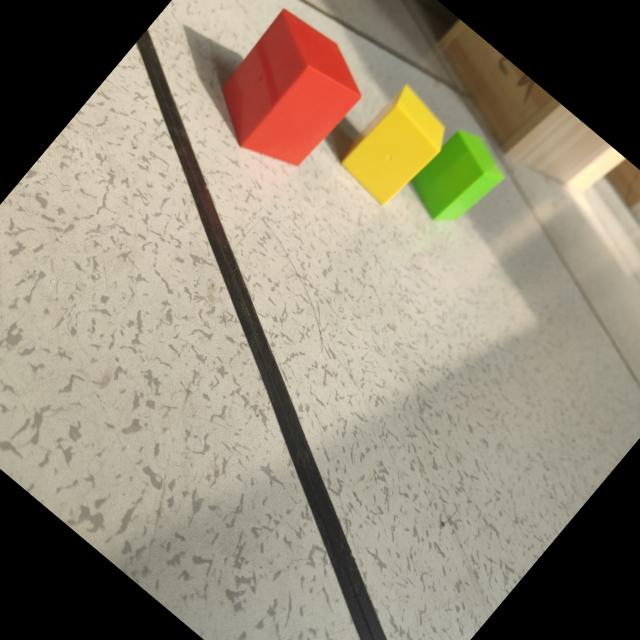green: (409, 131, 503, 222)
red: (221, 10, 360, 168)
yellow: (338, 86, 443, 207)
